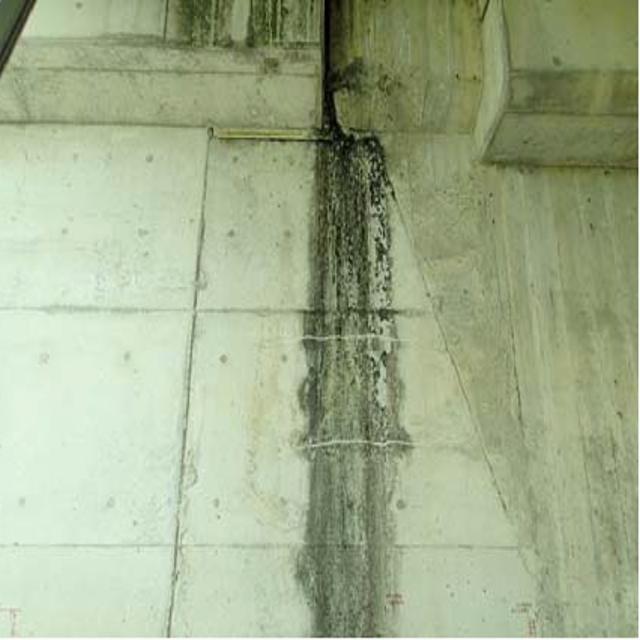leakage: (303, 106, 427, 630)
